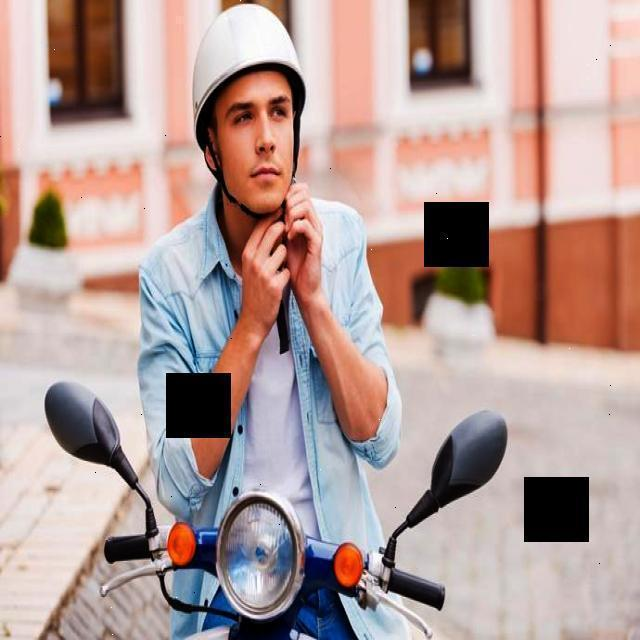helmet: (194, 6, 304, 222)
